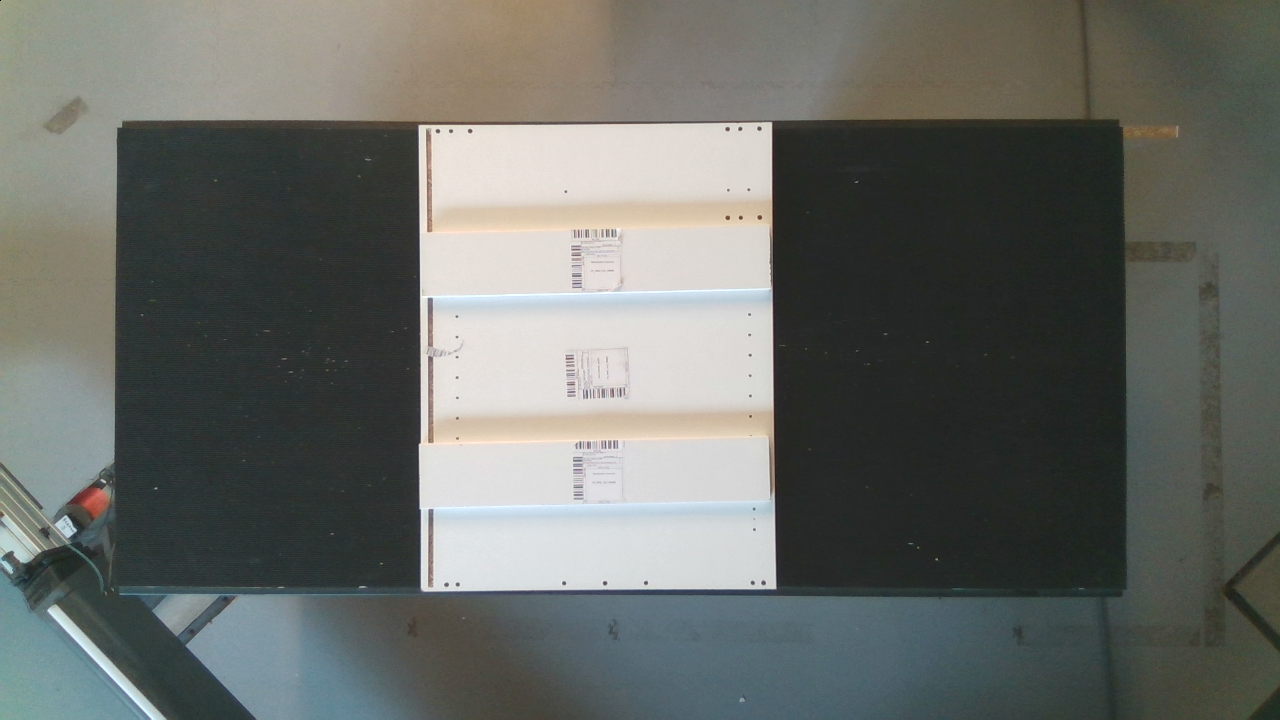barcode: (561, 214, 635, 294), (561, 337, 643, 405), (567, 439, 635, 510)
part1: (407, 432, 779, 518), (411, 223, 783, 300)
part2: (396, 111, 796, 600)
